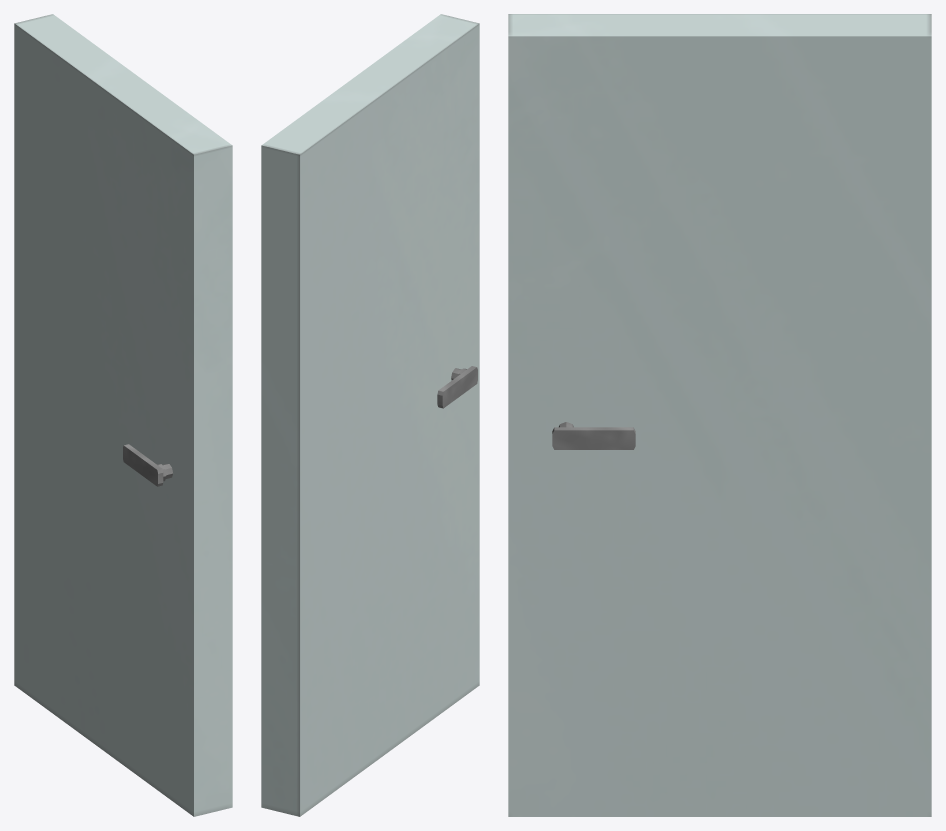
Rendered from white_door.fbx.
The picture shows the model from 3 angles, left to right: view 1: azimuth 30°, elevation 25°; view 2: azimuth 150°, elevation 25°; view 3: azimuth 270°, elevation 25°; orthographic projection. The views are drawn at different scales.
Visible parts, largest first — view 1: Glass_door; view 2: Glass_door; view 3: Glass_door.
Boxes of the visible parts, x1,y1,x2,y2 form: Glass_door: (14, 14, 232, 816); Glass_door: (261, 14, 479, 816); Glass_door: (508, 14, 931, 816).
Size of the model in its own units: 23.29 by 199 by 97.78.
